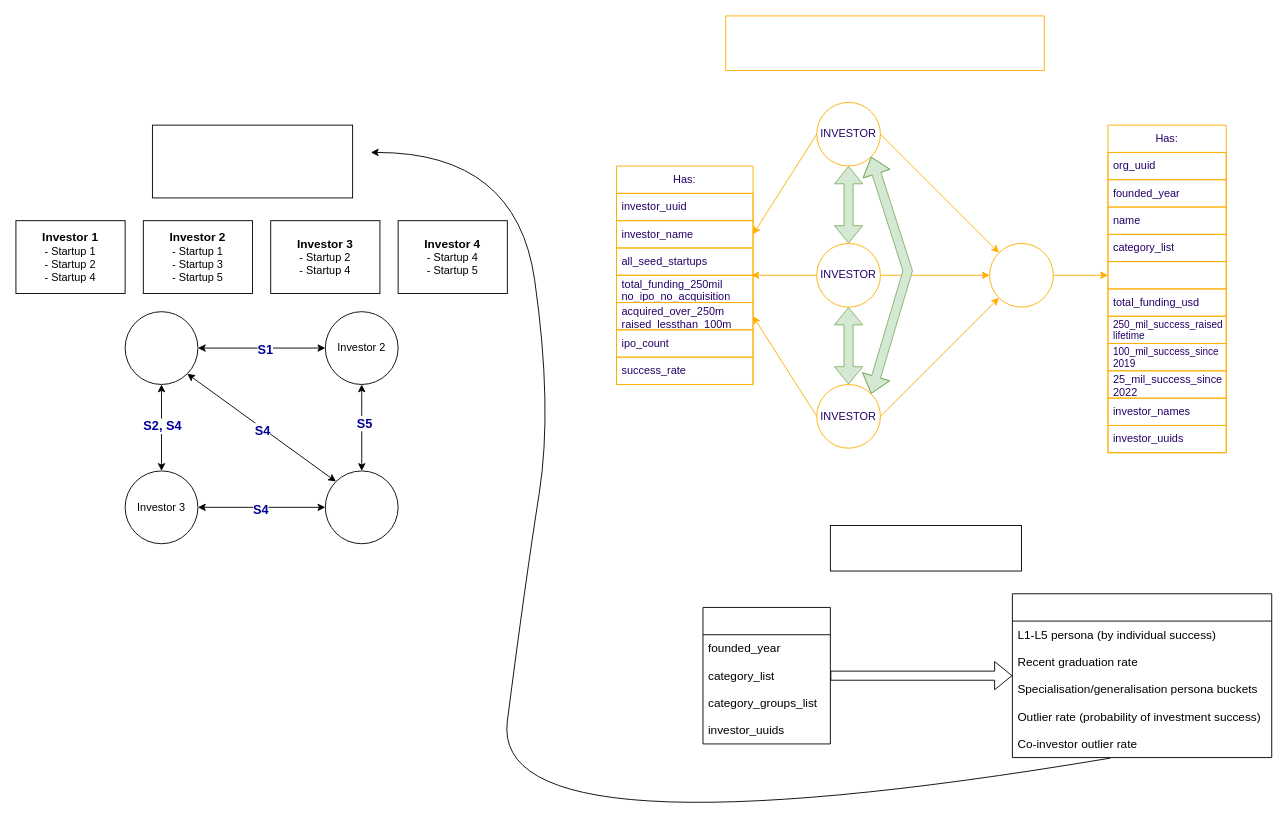
This 1288x819 diagram has some shape labels left out. The box of each missing label's shape, as (x1, y1, x2, y2) in pixels:
category_group_list: (1107, 261, 1226, 289)
Co-investor Relationships: (725, 15, 1044, 71)
Current idea for developing a graph-based algorithm: (152, 124, 353, 198)
INPUTS (startup data): (702, 607, 830, 744)
Investor 1: (124, 311, 198, 384)
Investor 4: (324, 470, 398, 544)
OUPUTS (success probability): (1011, 593, 1272, 758)
STARTUP: (989, 243, 1053, 307)
WANT:: (829, 525, 1021, 571)
